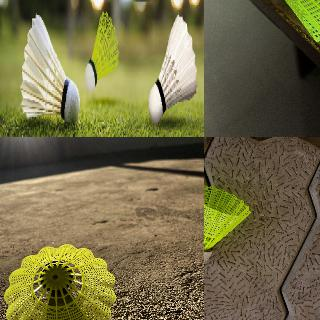shuttlecock: (3, 244, 115, 319), (204, 184, 251, 263), (240, 0, 319, 42), (85, 11, 119, 89)
